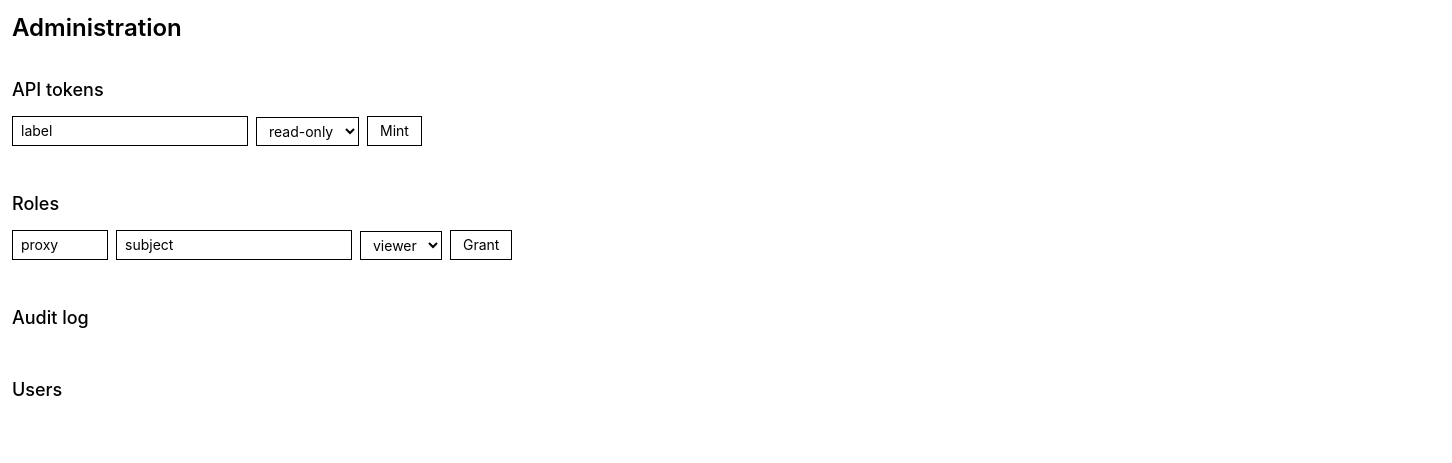
Test: A4b admin UI › mint shows the one-time token and attaches the X-CSRF-Token header
Expected: the button "Mint" is shown, [367,116,422,146]
In the field with placeholder "label": (130, 131) [12,116,248,146], type "ci"
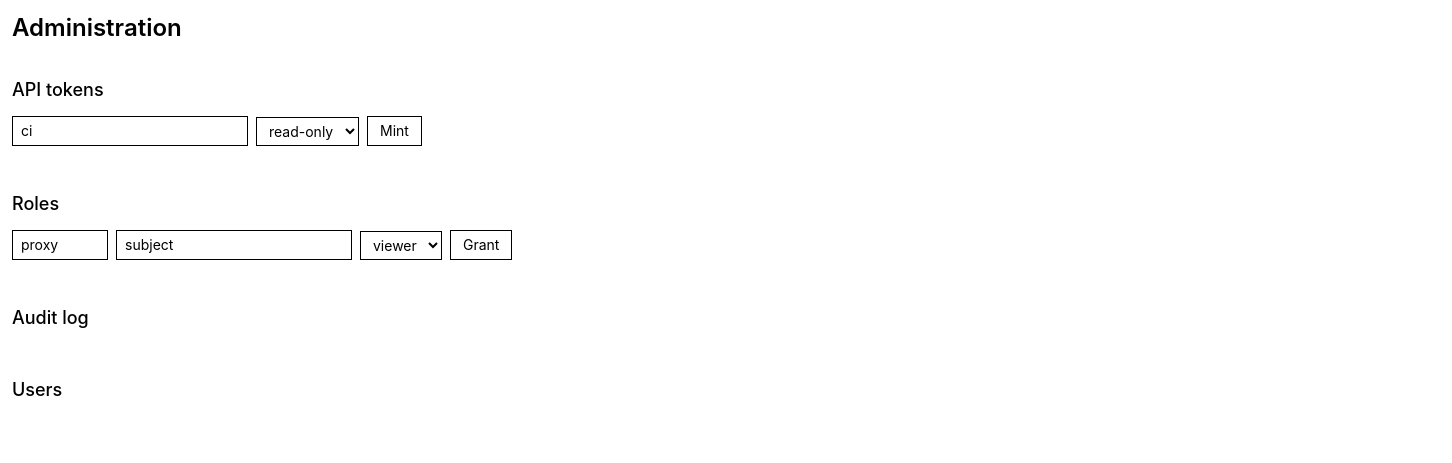
Click the button "Mint": click(394, 131) [367,116,422,146]
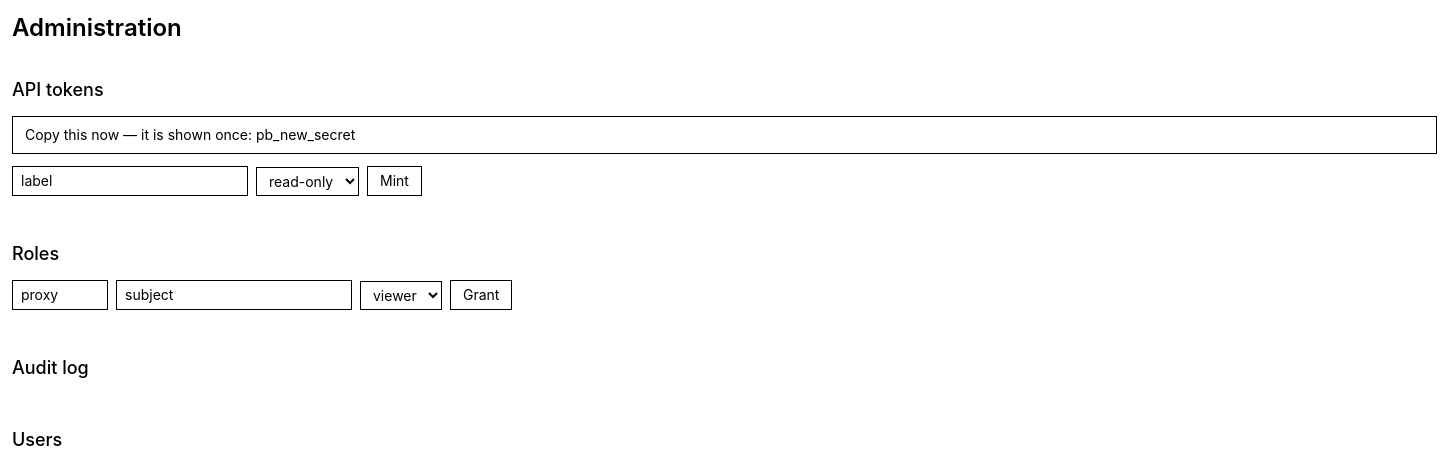
Now the text "Copy this now — it is shown once: pb_new_secret" is shown, box [12,116,1437,154]
